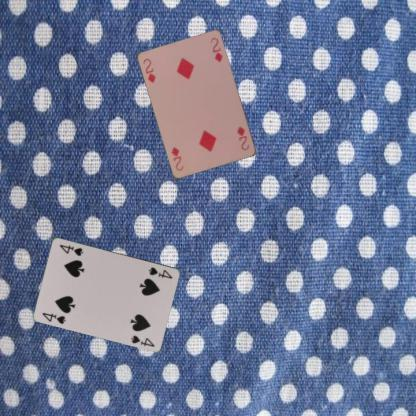2d: (140, 56, 158, 84), (234, 124, 250, 152)
4s: (146, 264, 174, 280), (40, 310, 67, 326)
